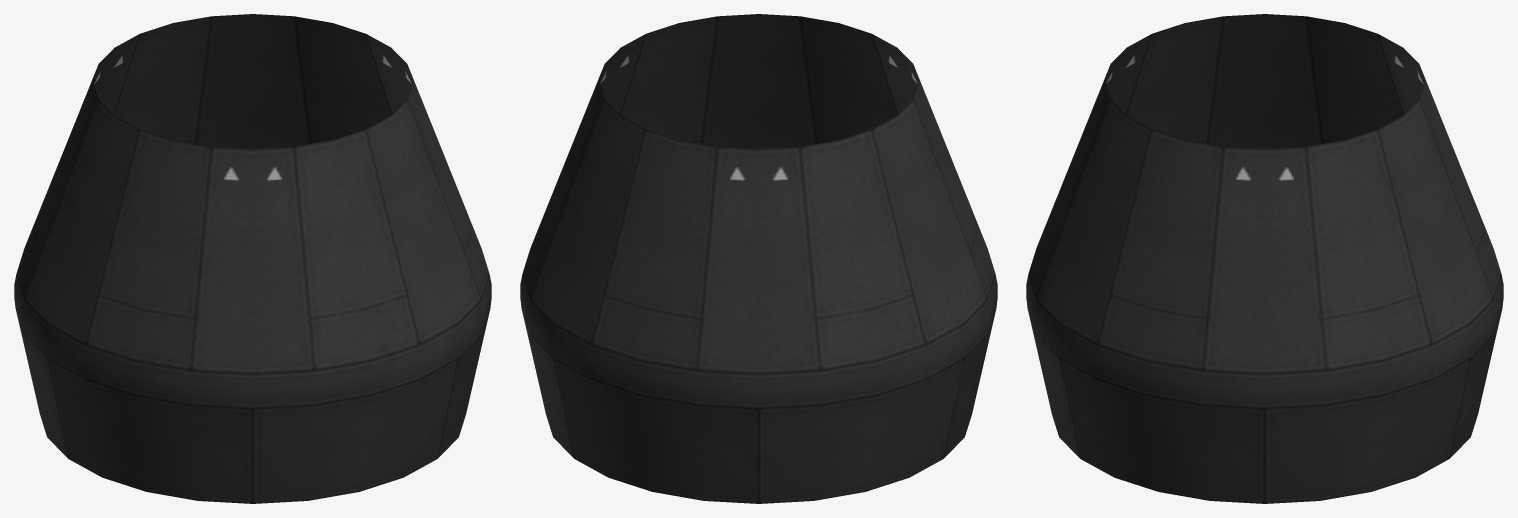
The model's file is streng.obj.
3 views of the same model, side by side, from view 1: azimuth 30°, elevation 25°; view 2: azimuth 150°, elevation 25°; view 3: azimuth 270°, elevation 25° (orthographic).
Parts seen in each view (by area): view 1: 11; view 2: 11; view 3: 11.
Part boxes in pixels (bbox=[...]): 11: bbox=[14, 14, 491, 503]; 11: bbox=[520, 14, 997, 503]; 11: bbox=[1026, 14, 1503, 503].
Size of the model in its own units: 1.4 by 1.08 by 1.4.
1 material, 1 textured.
